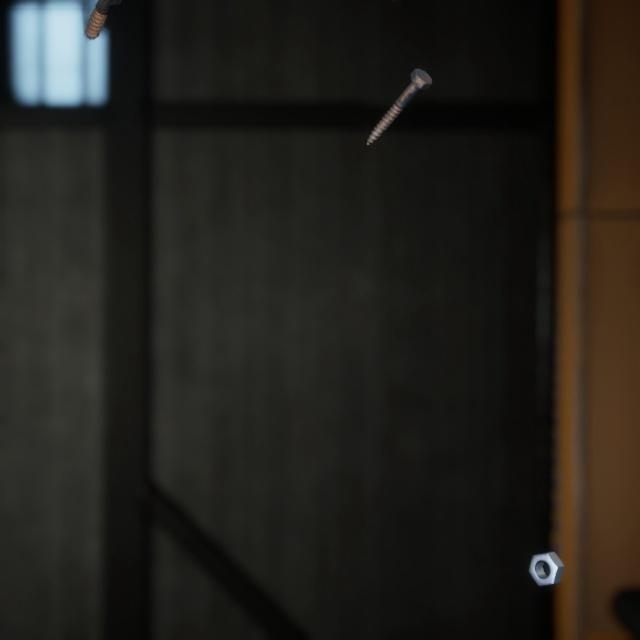bolt: (362, 53, 436, 138), (80, 0, 115, 36)
nut: (524, 524, 569, 567)
